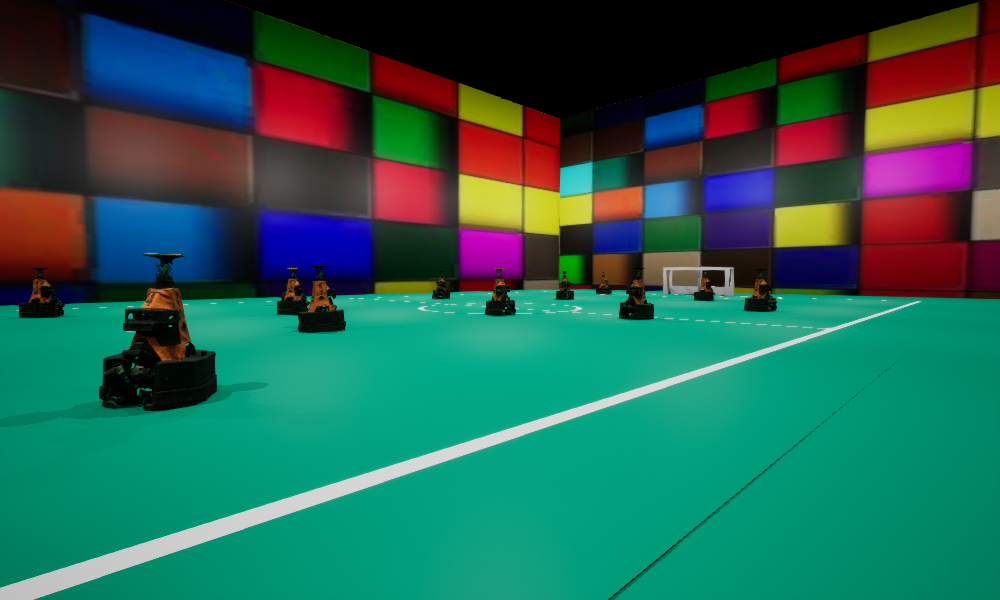0 orange robot TechUnited: (99, 253, 216, 408), (298, 266, 345, 332), (19, 268, 64, 317), (619, 268, 653, 319), (277, 268, 309, 314), (485, 268, 515, 315), (744, 269, 776, 311), (281, 270, 305, 300), (694, 271, 715, 300), (556, 271, 573, 299), (432, 271, 449, 298), (596, 272, 611, 293)
